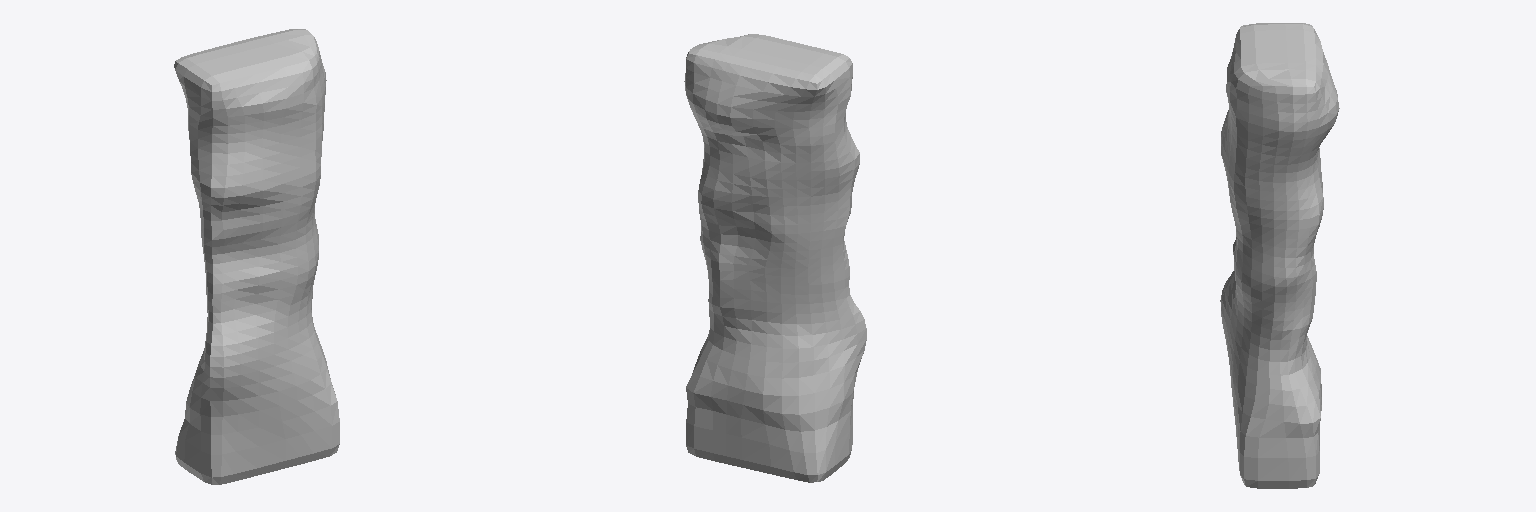
Rendered from PM3D_rock014_001.OBJ.
3 views of the same model, side by side, from view 1: azimuth 30°, elevation 25°; view 2: azimuth 150°, elevation 25°; view 3: azimuth 270°, elevation 25° (orthographic).
Parts seen in each view (by area): view 1: Group40071; view 2: Group40071; view 3: Group40071.
Boxes of the visible parts, x1=… form: Group40071: x1=174, y1=29, x2=339, y2=484; Group40071: x1=684, y1=34, x2=866, y2=482; Group40071: x1=1220, y1=23, x2=1339, y2=488.
Size of the model in its own units: 1555 by 4181 by 1105.